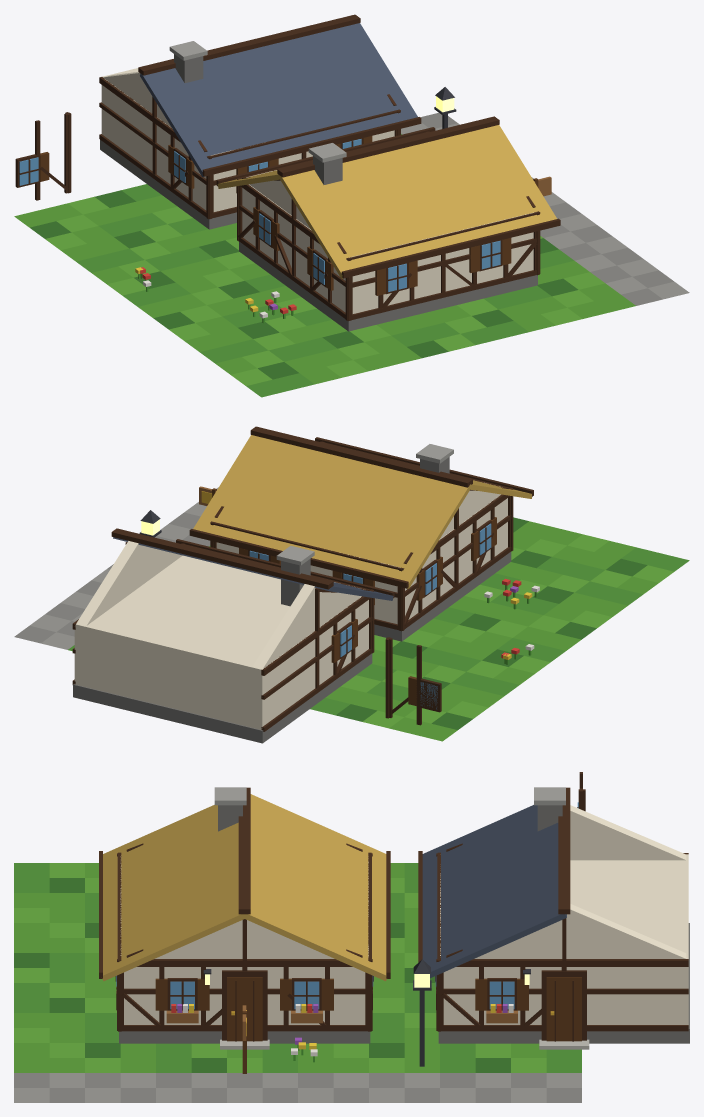
The model's file is chunk_5_13.glb.
The picture shows the model from 3 angles, top to bottom: view 1: azimuth 30°, elevation 25°; view 2: azimuth 150°, elevation 25°; view 3: azimuth 270°, elevation 25°; orthographic projection. The views are drawn at different scales.
Parts seen in each view (by area): view 1: chunk_5_13; view 2: chunk_5_13; view 3: chunk_5_13.
Boxes of the visible parts, x1=… form: chunk_5_13: x1=14, y1=14, x2=689, y2=397; chunk_5_13: x1=14, y1=426, x2=689, y2=743; chunk_5_13: x1=14, y1=772, x2=689, y2=1102.
Size of the model in its own units: 16 by 4.94 by 19.04.
